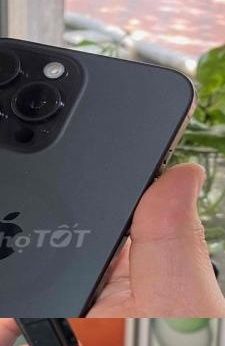scratch: (23, 321, 73, 346)
